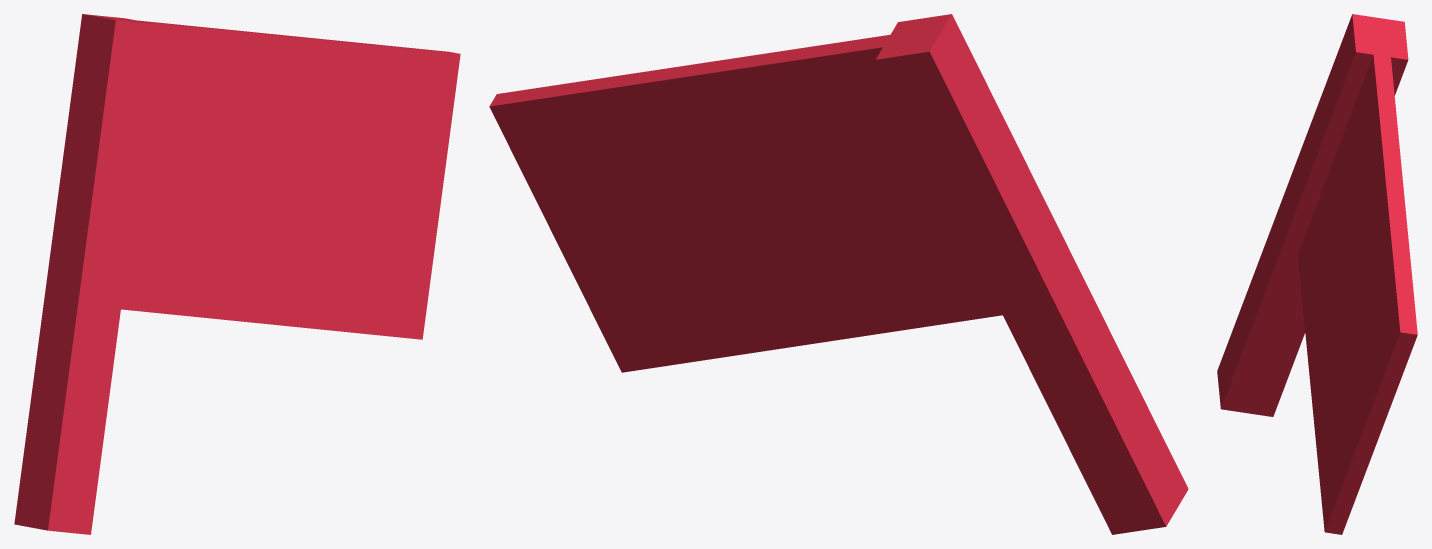
Rendered from flag.glb.
3 renders of one model, left to right at view 1: azimuth 30°, elevation 25°; view 2: azimuth 150°, elevation 25°; view 3: azimuth 270°, elevation 25°, orthographic. The views are drawn at different scales.
Parts seen in each view (by area): view 1: Cube; view 2: Cube; view 3: Cube.
Boxes of the visible parts, <box> form: Cube: <box>14,14,460,534</box>; Cube: <box>489,14,1188,534</box>; Cube: <box>1217,14,1417,534</box>.
Bounding box in the file's own units: 0.5902 × 0.5012 × 0.2022.
